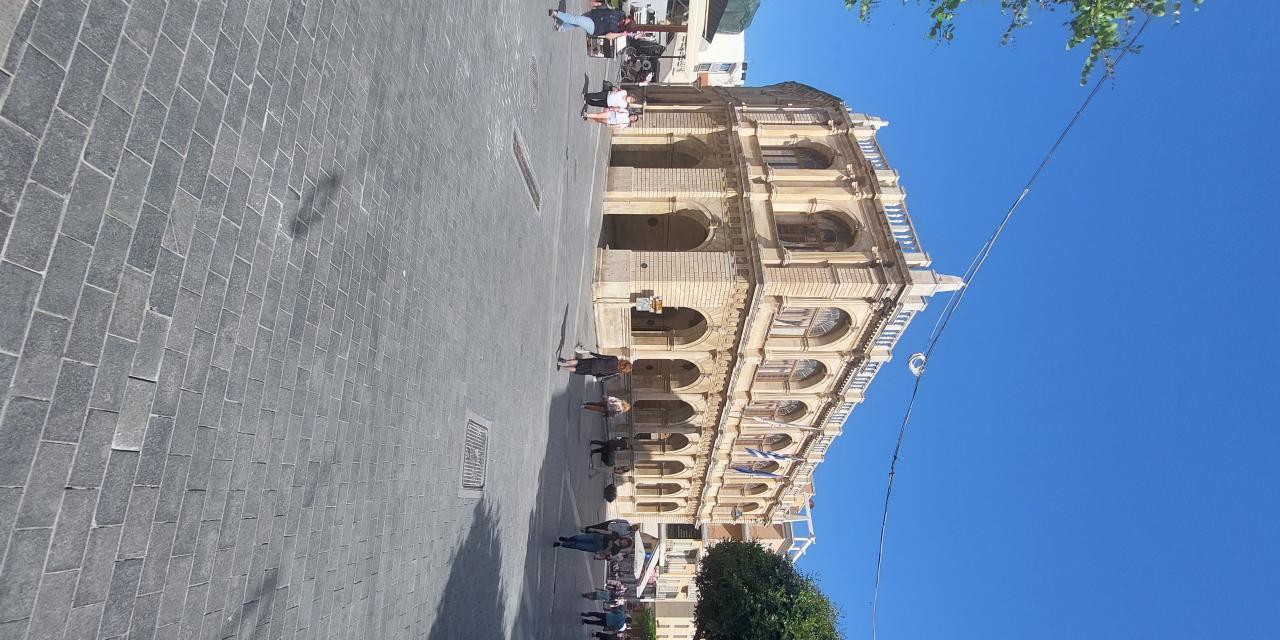Loggia: (790, 349, 1174, 640)
